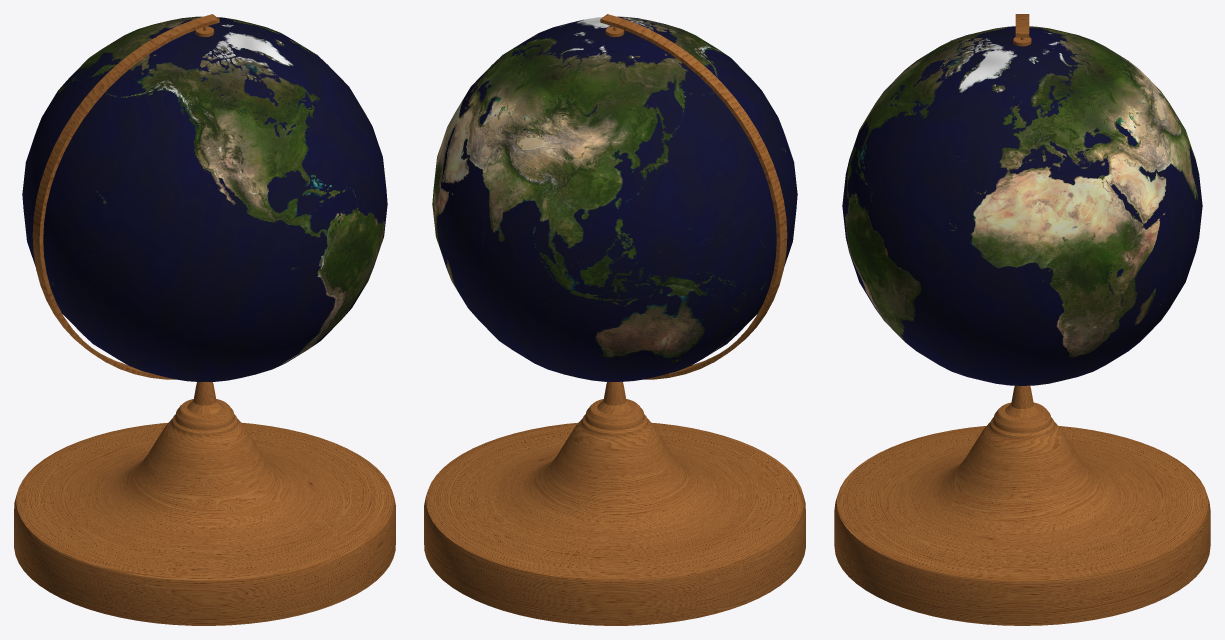
Rendered from Globe_mat.fbx.
3 views of the same model, side by side, from view 1: azimuth 30°, elevation 25°; view 2: azimuth 150°, elevation 25°; view 3: azimuth 270°, elevation 25° (orthographic).
Parts seen in each view (by area): view 1: Globe; view 2: Globe; view 3: Globe.
Part boxes in pixels (left/top/right/bottom): Globe: left=14, top=14, right=395, bottom=625; Globe: left=424, top=14, right=805, bottom=625; Globe: left=834, top=14, right=1210, bottom=625.
Size of the model in its own units: 201 by 302 by 199.
